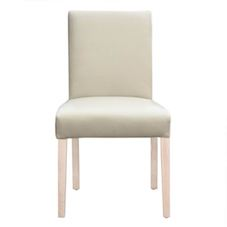chair: (38, 2, 184, 223)
